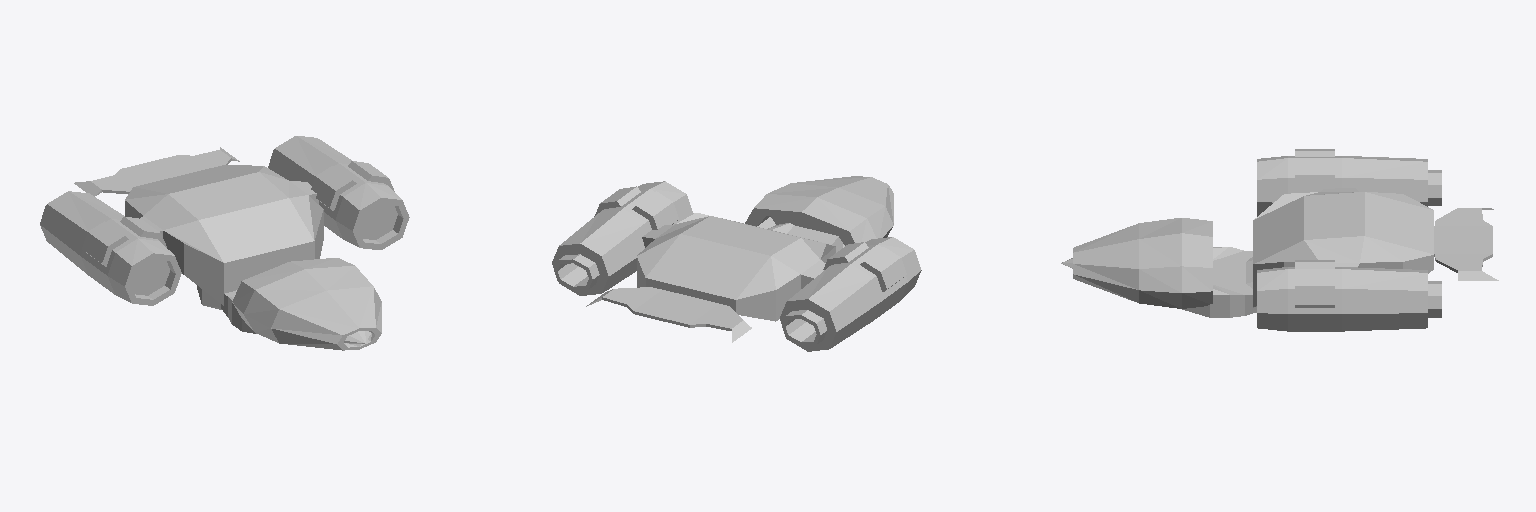
The model's file is spaceship4.obj.
3 views of the same model, side by side, from view 1: azimuth 30°, elevation 25°; view 2: azimuth 150°, elevation 25°; view 3: azimuth 270°, elevation 25° (orthographic).
Parts seen in each view (by area): view 1: M2_Ship_2_Cube.063; view 2: M2_Ship_2_Cube.063; view 3: M2_Ship_2_Cube.063.
Boxes of the visible parts, x1=… form: M2_Ship_2_Cube.063: x1=40, y1=136, x2=409, y2=350; M2_Ship_2_Cube.063: x1=552, y1=176, x2=921, y2=351; M2_Ship_2_Cube.063: x1=1061, y1=149, x2=1498, y2=331.
Size of the model in its own units: 0.7715 by 0.2258 by 1.